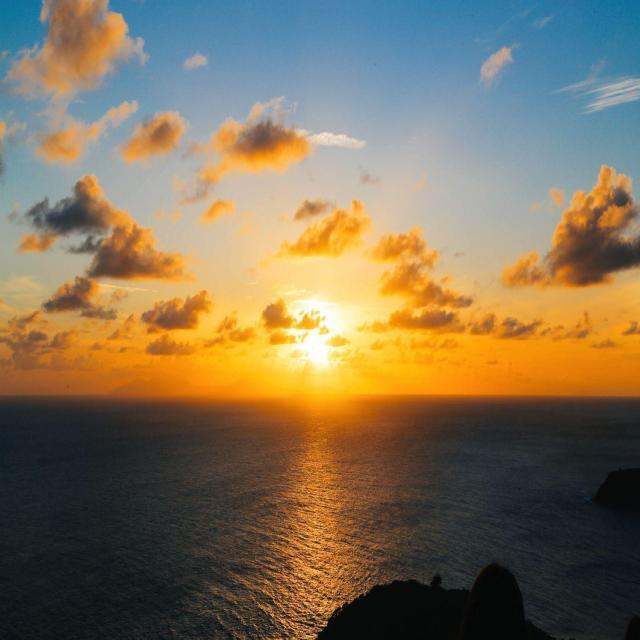other: (260, 289, 380, 404)
